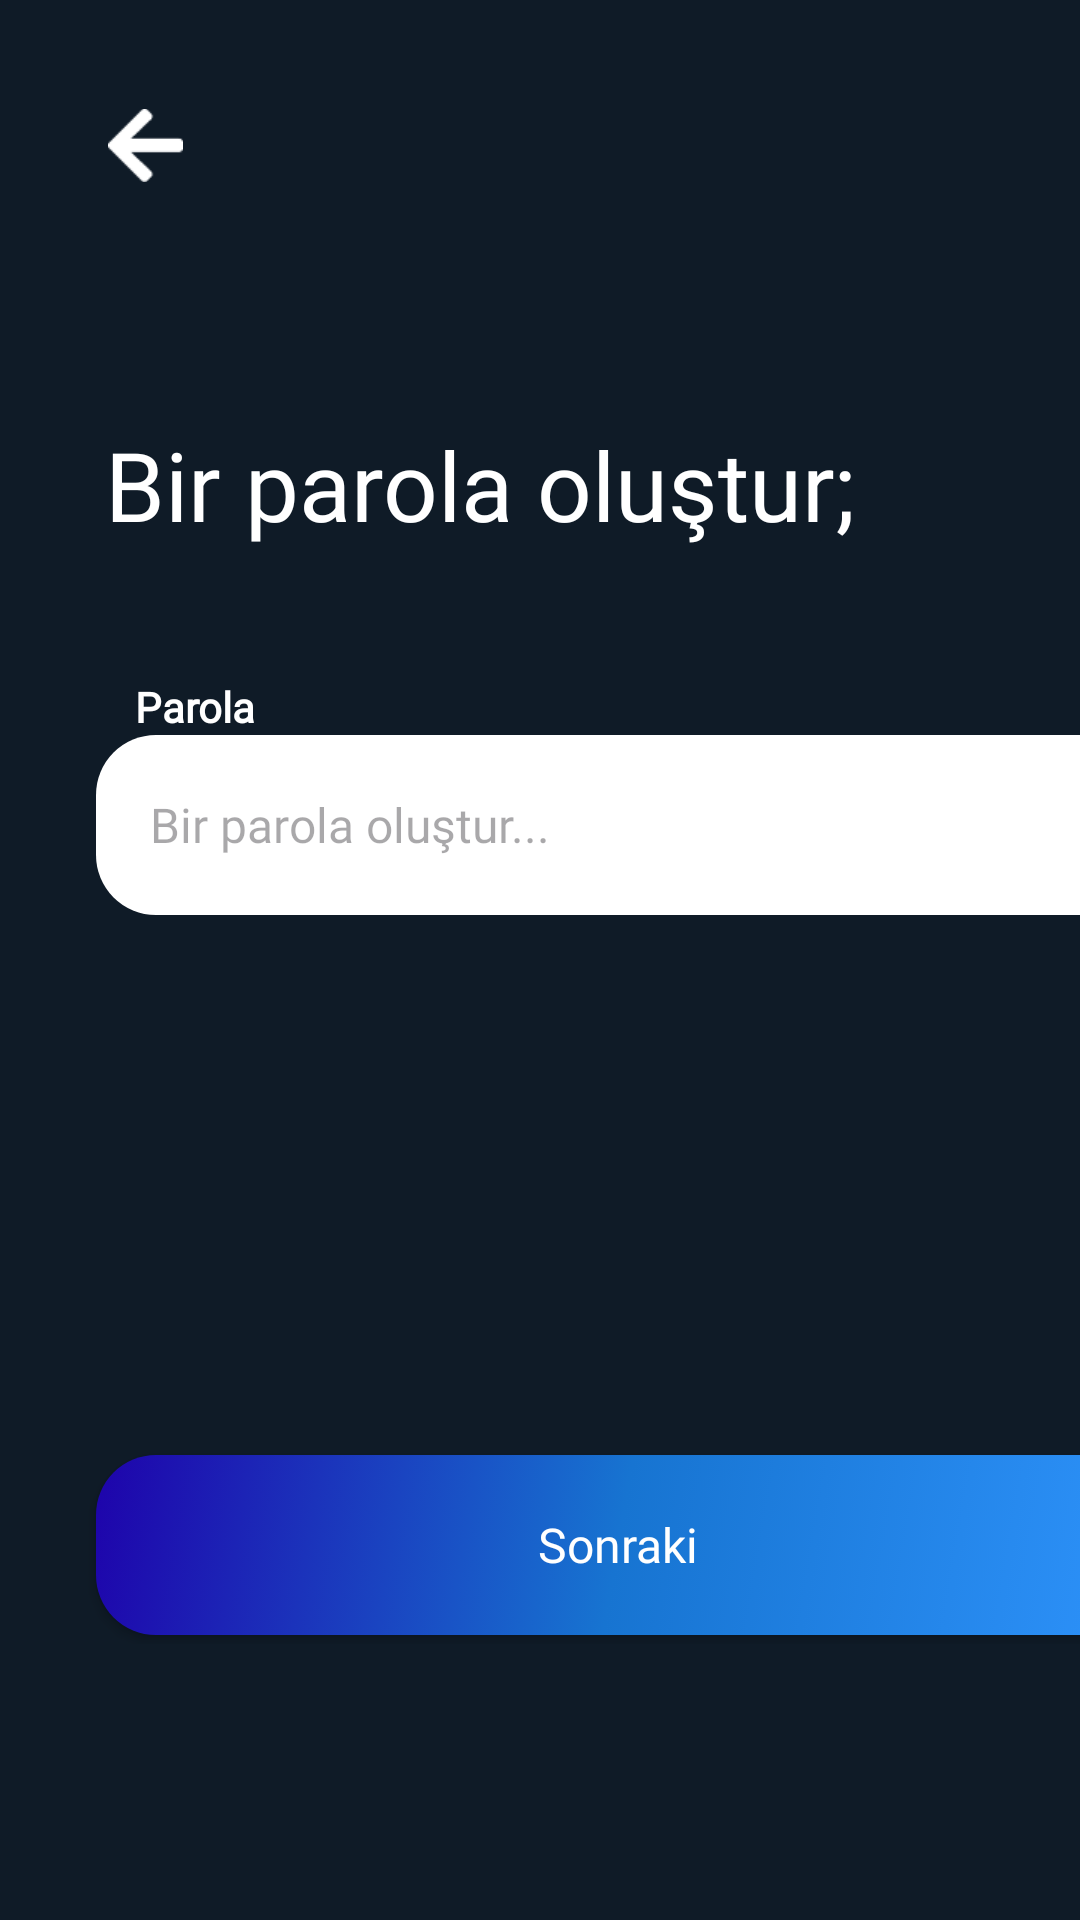

Where icons sit on this 1080 × 1920 app screen, as (x1, y1, x2, y2):
back: (108, 109, 183, 182)
